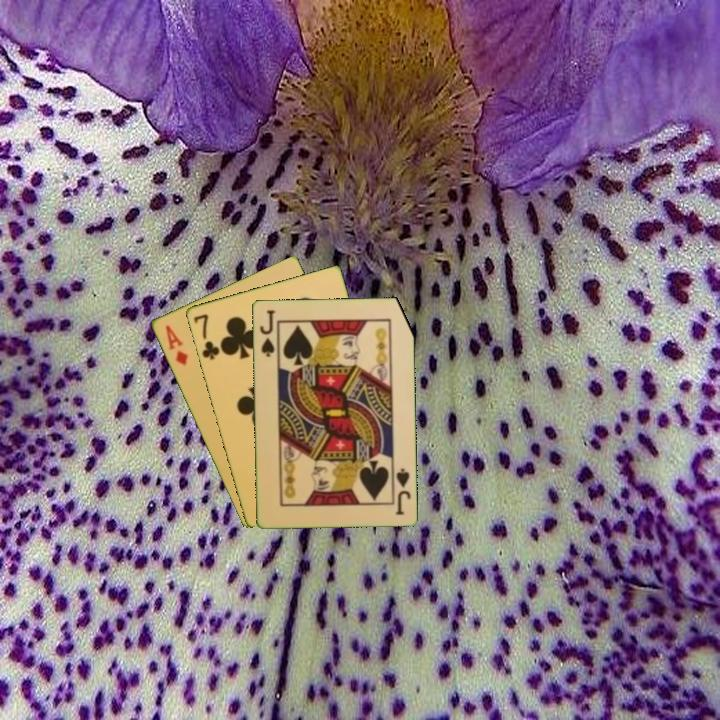7c: (190, 310, 222, 363)
Ad: (161, 321, 191, 368)
Js: (256, 306, 278, 359), (392, 464, 413, 517)
